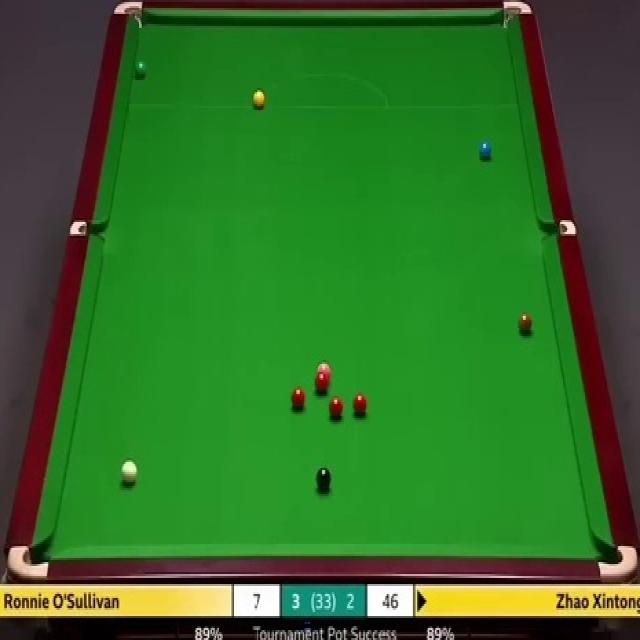pocket: (5, 542, 49, 583), (595, 543, 639, 582), (500, 0, 532, 32), (112, 0, 147, 29), (540, 218, 577, 237), (69, 218, 104, 238)
